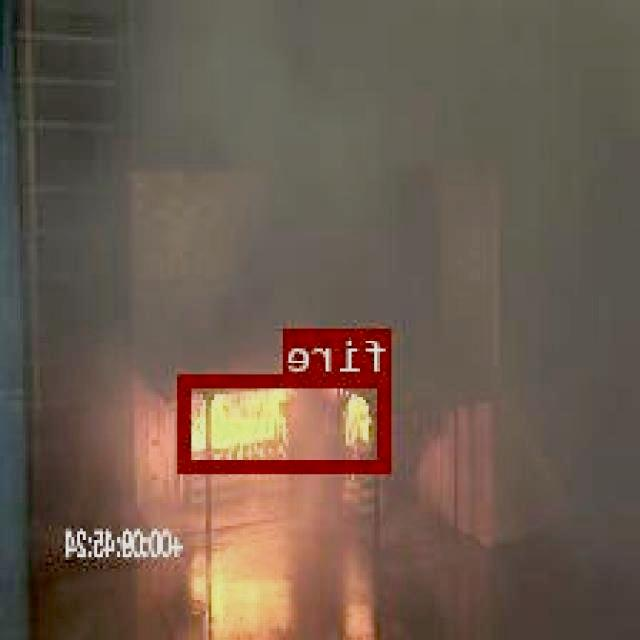fire: (182, 373, 394, 470)
